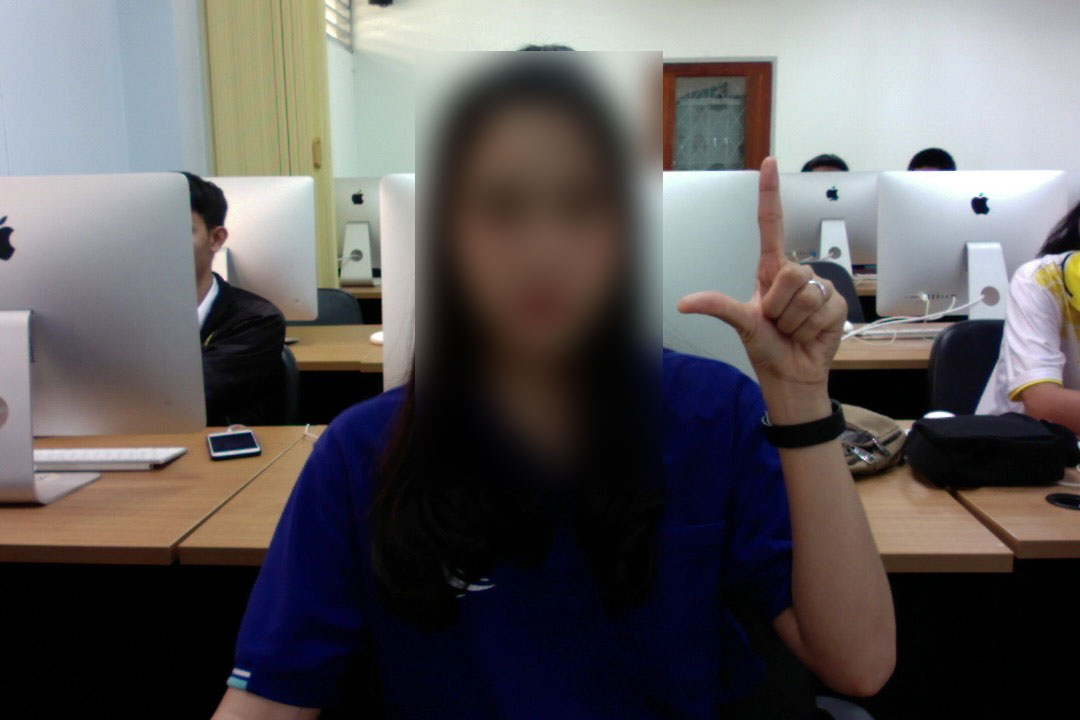lor: (665, 148, 866, 399)
